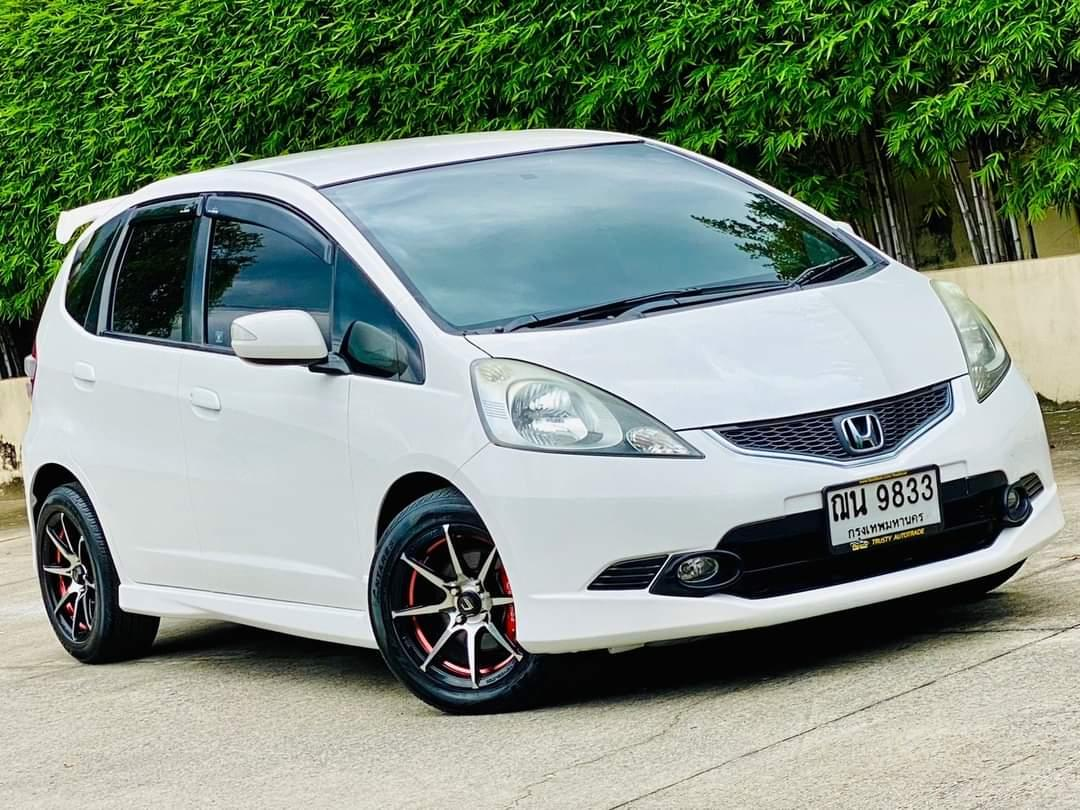license-plate: (818, 461, 947, 559)
